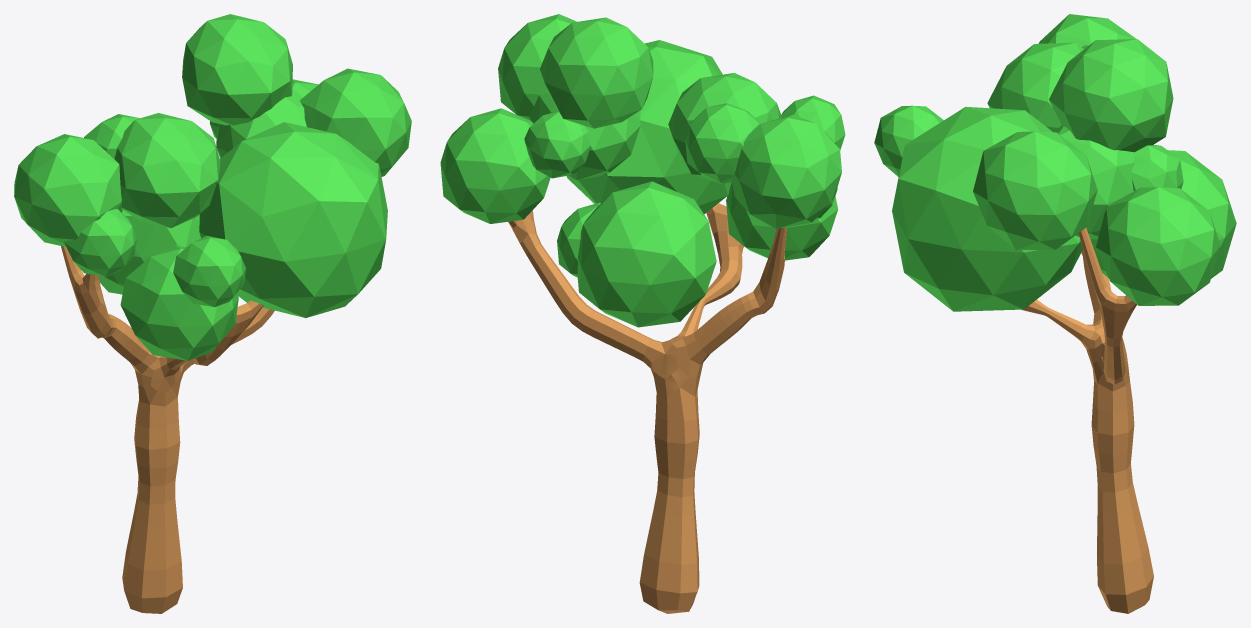
File: IslandTreeV2.fbx
3 views of the same model, side by side, from view 1: azimuth 30°, elevation 25°; view 2: azimuth 150°, elevation 25°; view 3: azimuth 270°, elevation 25° (orthographic). The views are drawn at different scales.
Visible parts, largest first — view 1: Icosphere, Plane; view 2: Icosphere, Plane; view 3: Icosphere, Plane.
Boxes of the visible parts, x1=… form: Icosphere: x1=14, y1=14, x2=411, y2=360; Plane: x1=61, y1=246, x2=274, y2=613; Icosphere: x1=440, y1=14, x2=845, y2=327; Plane: x1=508, y1=203, x2=786, y2=613; Icosphere: x1=874, y1=14, x2=1236, y2=311; Plane: x1=1021, y1=228, x2=1153, y2=613.
Size of the model in its own units: 704 by 1091 by 589.
